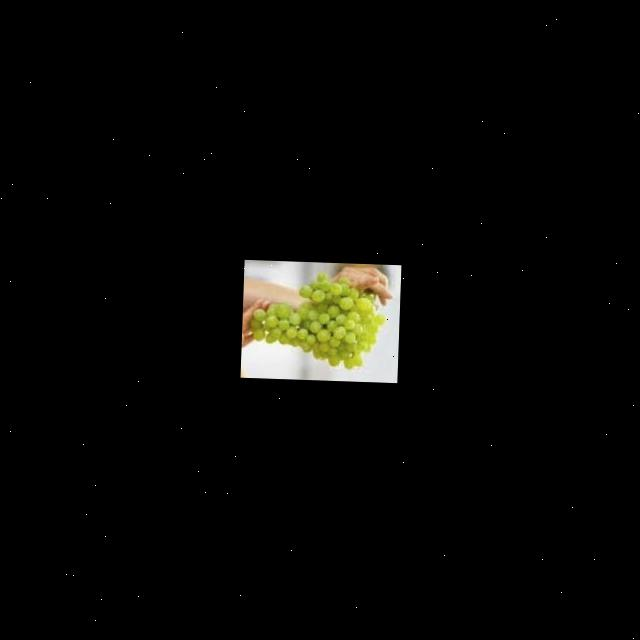grape: (247, 270, 387, 370)
